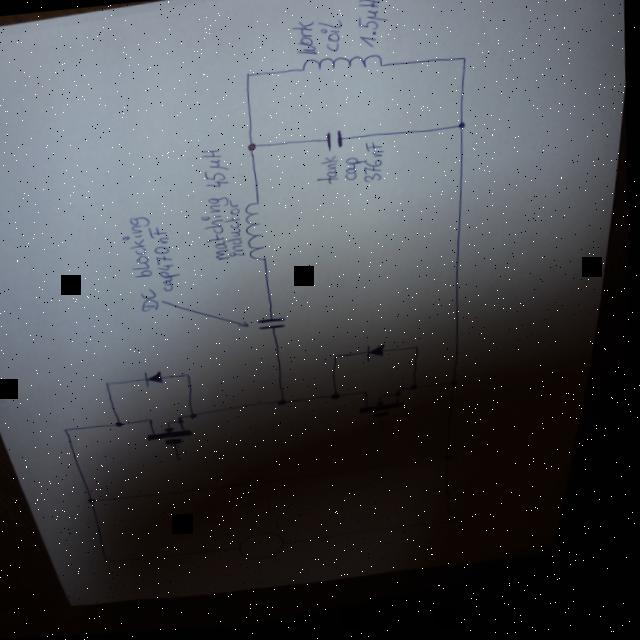capacitor: (256, 319, 289, 337), (323, 134, 345, 157), (247, 479, 266, 494)
diode: (143, 371, 170, 392), (365, 347, 391, 367)
inductor: (291, 55, 385, 81), (241, 203, 273, 267)
junction: (244, 144, 260, 157), (241, 74, 255, 85), (330, 397, 343, 406), (457, 60, 468, 70), (277, 402, 289, 411), (455, 127, 466, 136), (115, 422, 126, 431), (190, 414, 201, 423), (451, 384, 461, 393), (445, 459, 455, 468), (411, 388, 421, 397), (89, 499, 98, 507), (105, 382, 113, 390), (331, 358, 340, 365), (105, 560, 114, 567), (414, 350, 422, 357), (448, 524, 456, 531), (185, 376, 193, 382), (64, 429, 72, 435)
source: (239, 533, 291, 567)
terminal: (176, 459, 182, 467), (381, 436, 387, 442)
text: (200, 147, 237, 275), (126, 220, 178, 294), (149, 228, 180, 296), (125, 219, 156, 287), (352, 1, 390, 55), (218, 194, 244, 264), (357, 146, 386, 190), (290, 24, 317, 62), (317, 22, 343, 58), (314, 158, 342, 190), (139, 291, 159, 315), (343, 163, 358, 187)
transistor: (144, 416, 197, 451), (360, 390, 408, 426)
